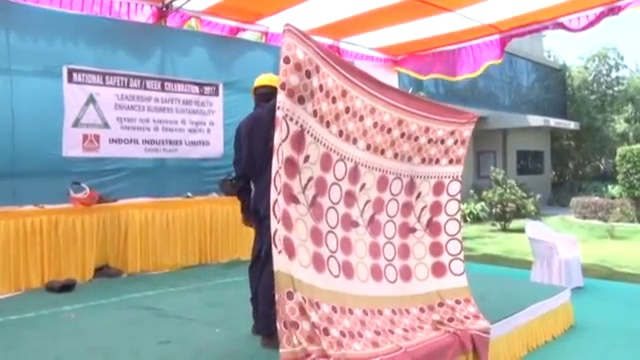helmet: (251, 70, 278, 96)
helmet_on: (251, 70, 278, 112)
person: (233, 70, 279, 352)
